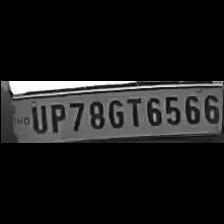5: (162, 94, 180, 126)
6: (142, 95, 162, 127), (182, 92, 200, 124), (202, 92, 220, 124)
7: (65, 98, 84, 132)
8: (86, 98, 104, 130)
G: (105, 96, 124, 128), (104, 93, 122, 126)
P: (44, 100, 66, 134)
T: (124, 96, 142, 128)
U: (26, 102, 46, 134)
